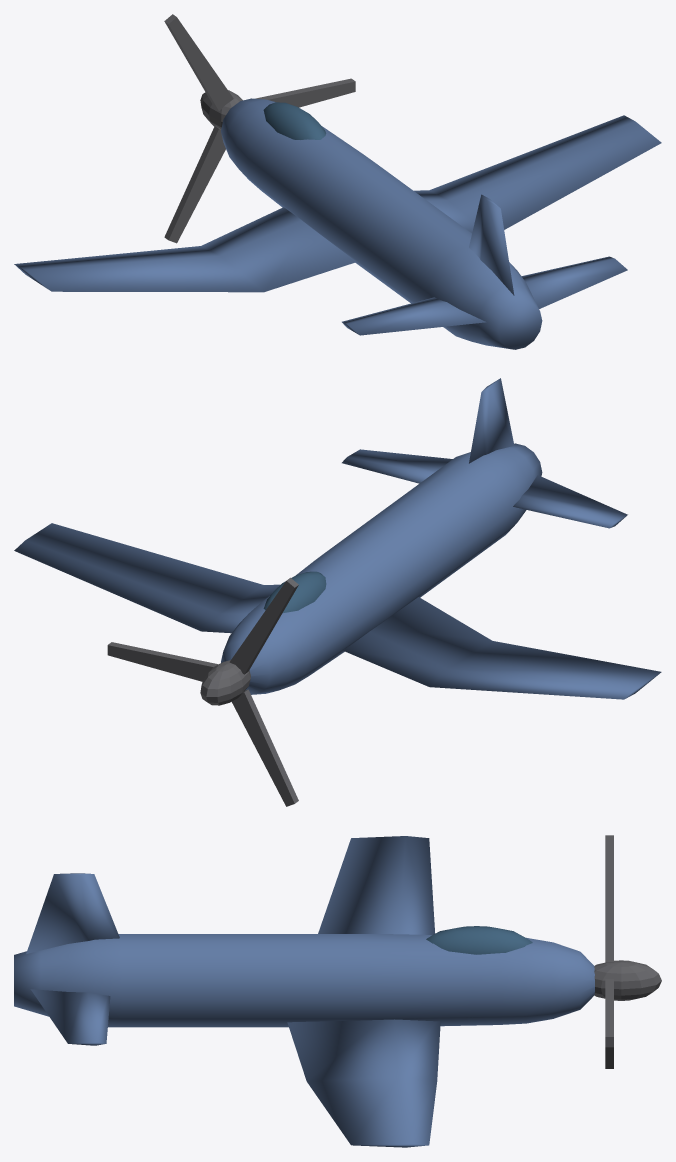
3 views of the same model, one above another, from view 1: azimuth 30°, elevation 25°; view 2: azimuth 150°, elevation 25°; view 3: azimuth 270°, elevation 25° (orthographic). The views are drawn at different scales.
Visible parts, largest first — view 1: Body, Detail, Canopy; view 2: Body, Detail, Canopy; view 3: Body, Detail, Canopy.
Part boxes in pixels (x1,y1,x2,y2): Body: [14, 98, 661, 349]; Detail: [164, 14, 355, 243]; Canopy: [263, 102, 326, 139]; Body: [14, 378, 661, 699]; Detail: [107, 577, 298, 806]; Canopy: [263, 571, 326, 612]; Body: [14, 836, 594, 1147]; Detail: [594, 835, 661, 1068]; Canopy: [426, 926, 532, 954].
Size of the model in its own units: 1250 by 443 by 1114.
